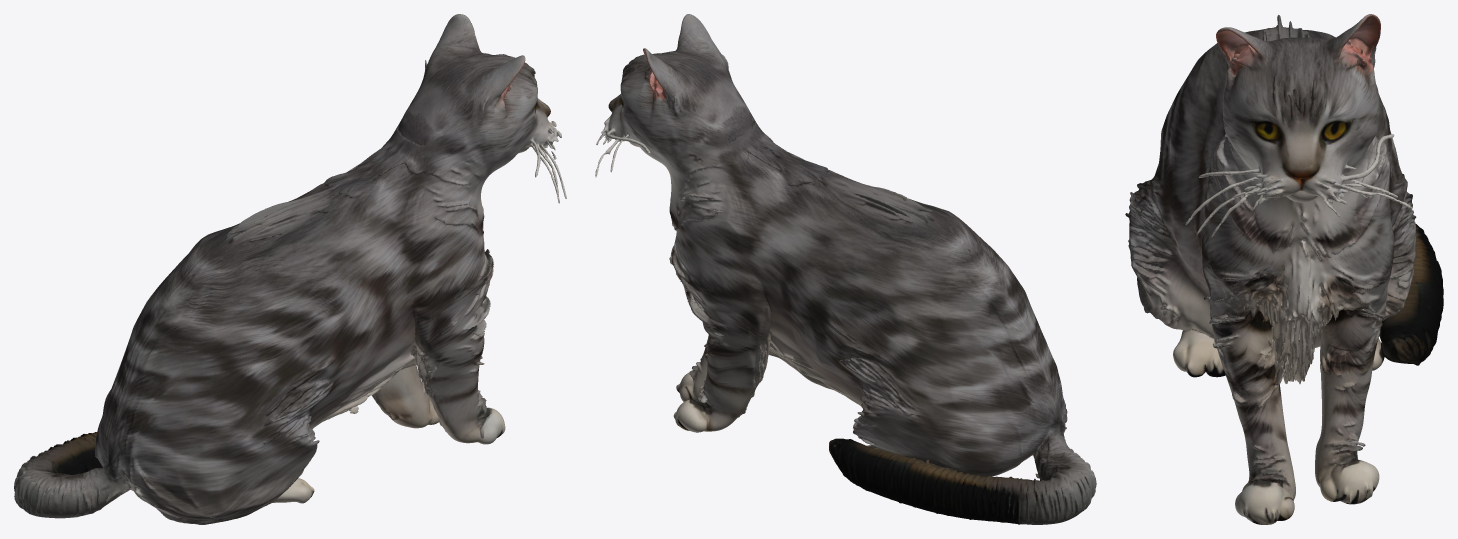
File: cat_sit.glb
The picture shows the model from 3 angles, left to right: view 1: azimuth 30°, elevation 25°; view 2: azimuth 150°, elevation 25°; view 3: azimuth 270°, elevation 25°; orthographic projection. The views are drawn at different scales.
Parts seen in each view (by area): view 1: tripo_node_e6ac5215-a862-4885-8e4d-5065802adb83; view 2: tripo_node_e6ac5215-a862-4885-8e4d-5065802adb83; view 3: tripo_node_e6ac5215-a862-4885-8e4d-5065802adb83.
Part boxes in pixels (box(x1,y1,x2,y2)): tripo_node_e6ac5215-a862-4885-8e4d-5065802adb83: box(14, 14, 566, 524); tripo_node_e6ac5215-a862-4885-8e4d-5065802adb83: box(595, 14, 1096, 524); tripo_node_e6ac5215-a862-4885-8e4d-5065802adb83: box(1125, 14, 1443, 524).
Bounding box in the file's own units: 1 × 0.7302 × 0.409.
Materials: 1 (1 with a texture image).
